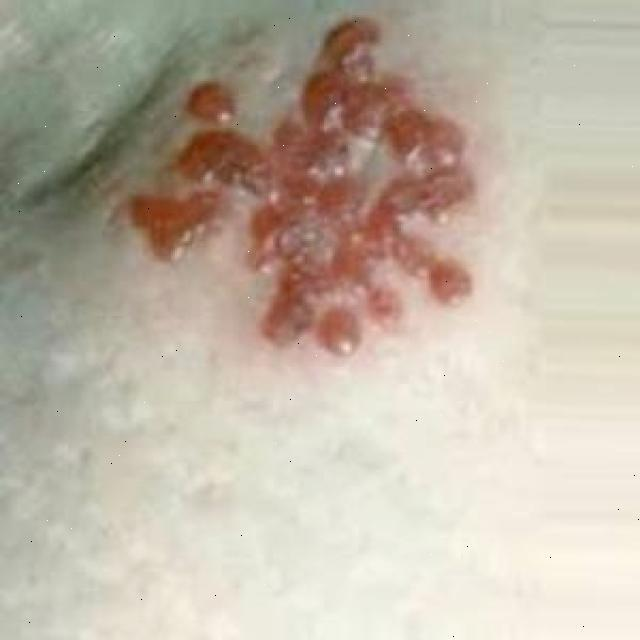Shingles: (128, 19, 481, 362)
